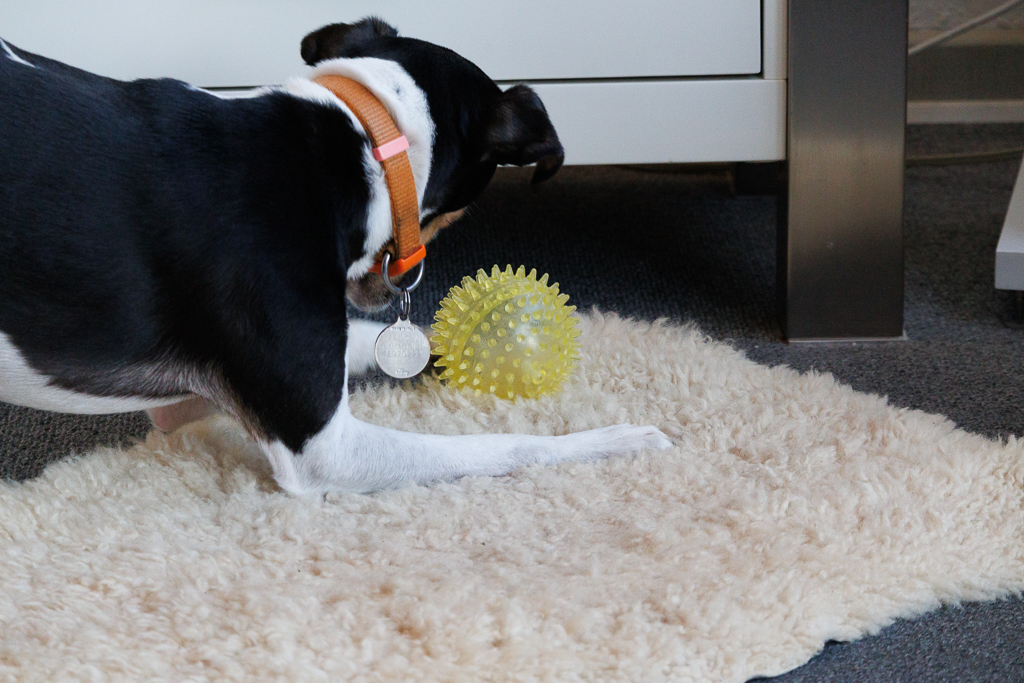Dog: (0, 12, 687, 500)
